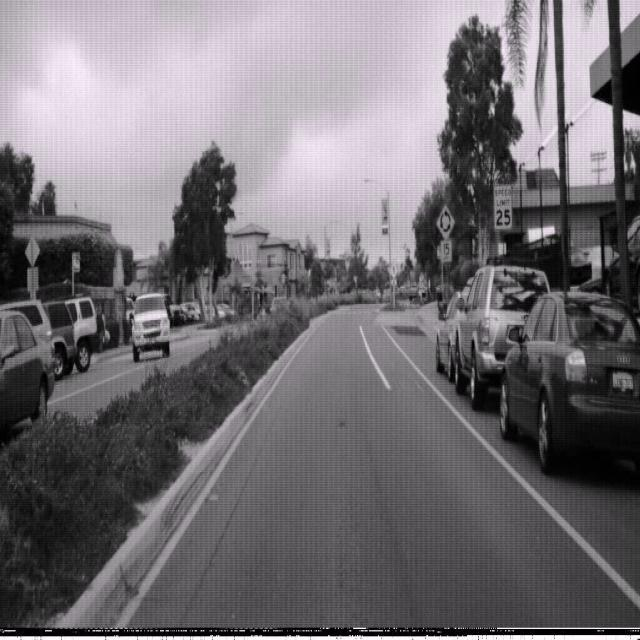speedLimit25: (493, 181, 513, 232)
